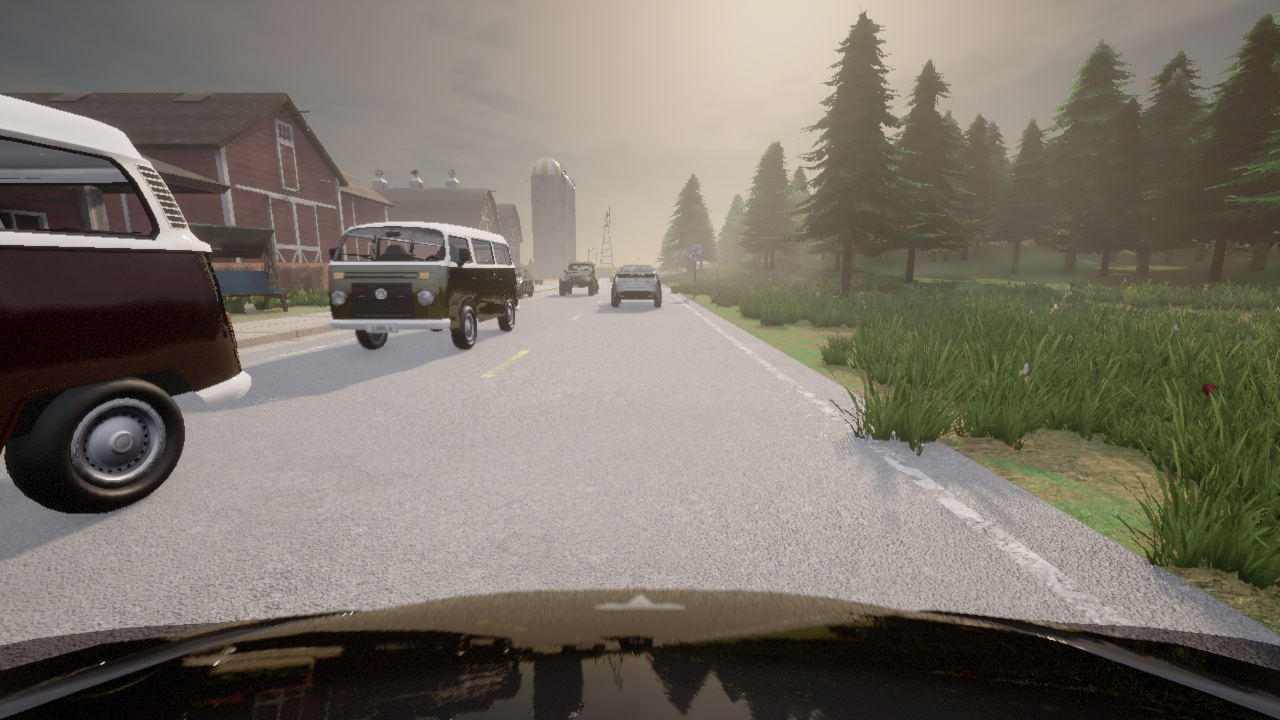cyclist: (0, 588, 1279, 719), (328, 221, 519, 349), (611, 264, 661, 306), (559, 261, 598, 295), (515, 267, 533, 298), (596, 272, 610, 277), (610, 271, 616, 281), (607, 272, 612, 273), (604, 271, 607, 272)
